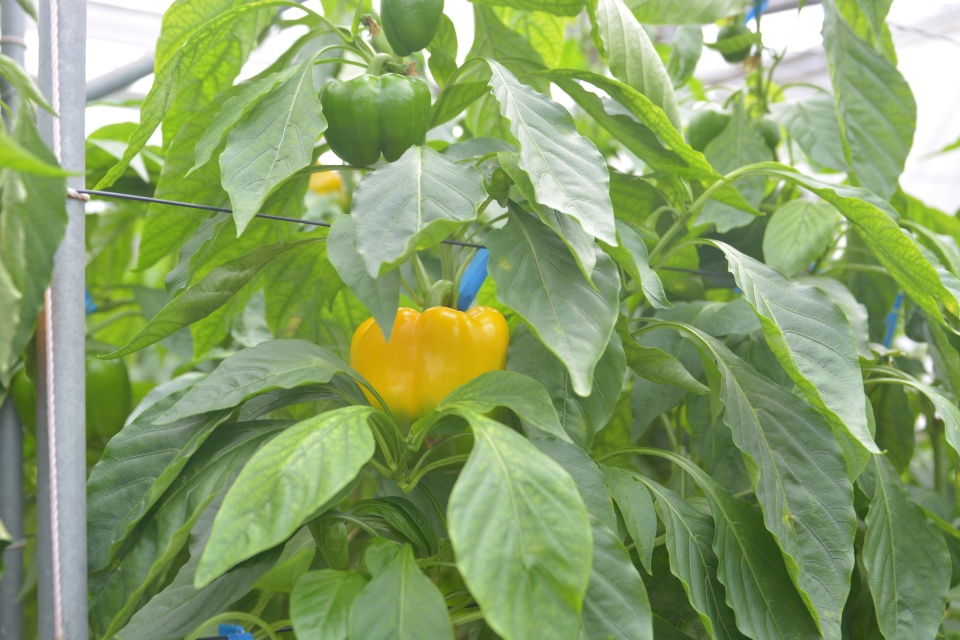fruit: (348, 304, 510, 472), (8, 346, 136, 458), (314, 68, 434, 168), (378, 0, 447, 56)
